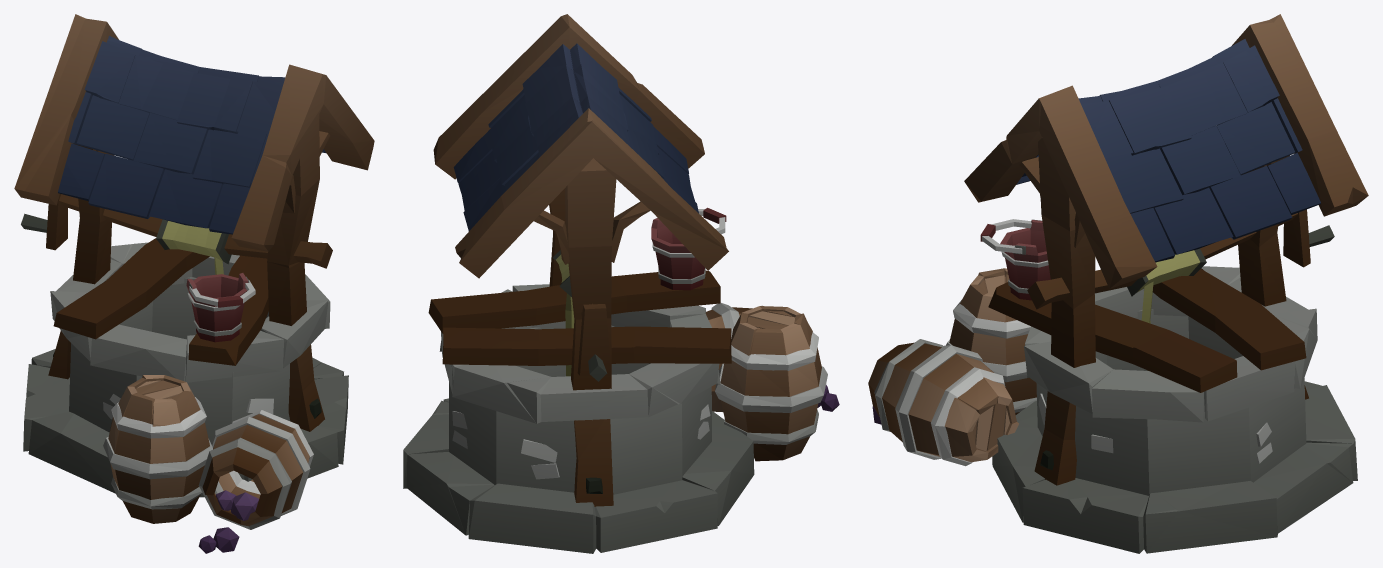
Rendered from kuyu.fbx.
3 views of the same model, side by side, from view 1: azimuth 30°, elevation 25°; view 2: azimuth 150°, elevation 25°; view 3: azimuth 270°, elevation 25° (orthographic). The views are drawn at different scales.
Parts seen in each view (by area): view 1: Mountain-2.003; view 2: Mountain-2.003; view 3: Mountain-2.003.
Boxes of the visible parts, box(x1,y1,x2,y2) form: Mountain-2.003: box(14, 14, 374, 553); Mountain-2.003: box(403, 14, 839, 553); Mountain-2.003: box(868, 14, 1368, 553).
Size of the model in its own units: 349 by 417 by 437.
